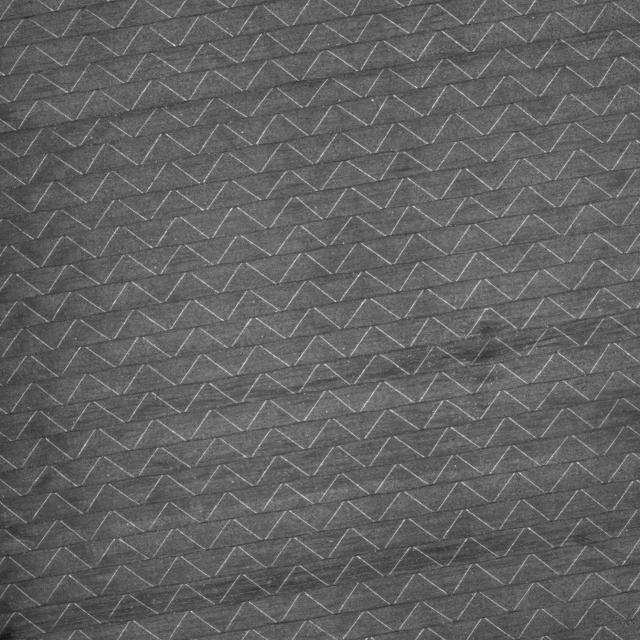carbon-fibre-defect: (288, 310, 615, 399)
